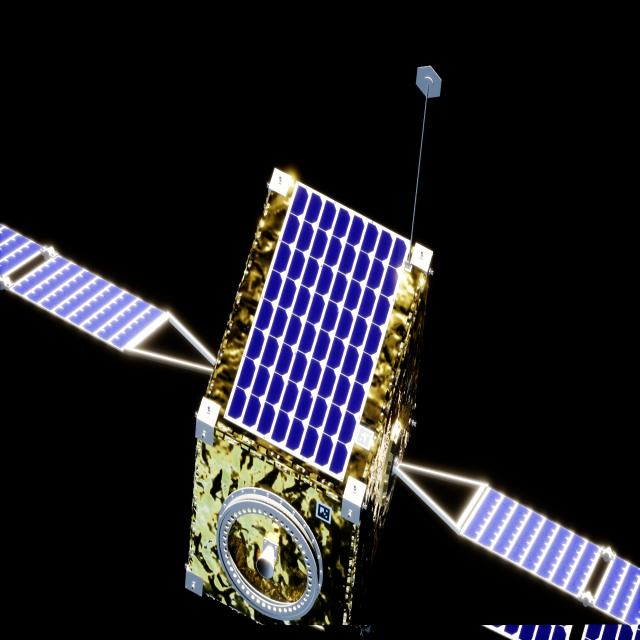satellite: (0, 171, 640, 638)
